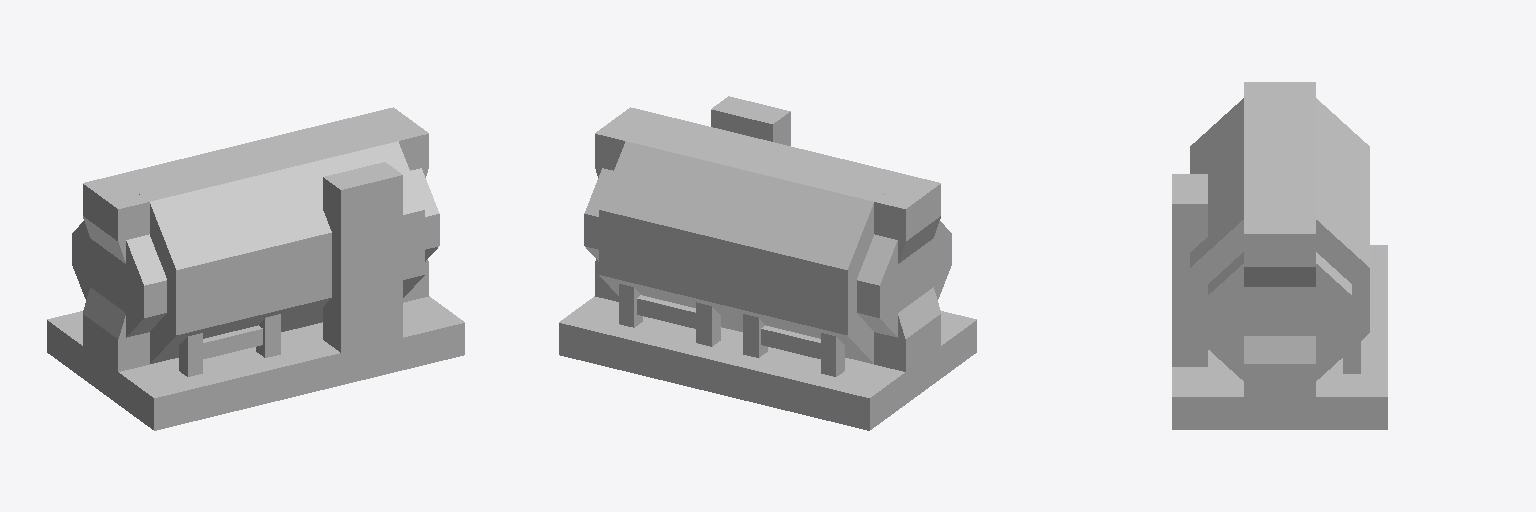
File: heat_exchanger_mirrored.obj
The picture shows the model from 3 angles: view 1: azimuth 30°, elevation 25°; view 2: azimuth 150°, elevation 25°; view 3: azimuth 270°, elevation 25°; orthographic projection.
Parts seen in each view (by area): view 1: Heat_Exchanger_base; view 2: Heat_Exchanger_base; view 3: Heat_Exchanger_base.
Boxes of the visible parts, <box> form: Heat_Exchanger_base: <box>47,107,464,430</box>; Heat_Exchanger_base: <box>559,96,976,430</box>; Heat_Exchanger_base: <box>1172,82,1387,429</box>.
Size of the model in its own units: 5 by 3 by 3.